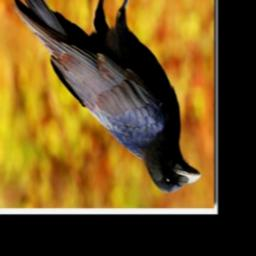Crow: (6, 0, 201, 198)
